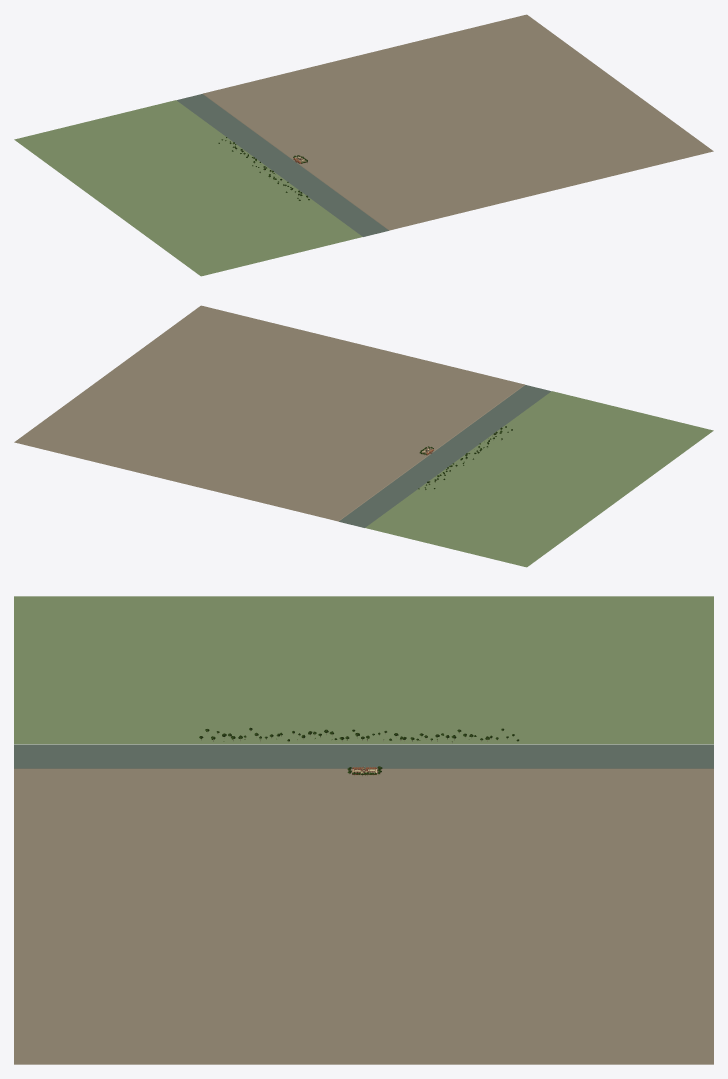
Rendered from dakshineswar.glb.
3 renders of one model, top to bottom at view 1: azimuth 30°, elevation 25°; view 2: azimuth 150°, elevation 25°; view 3: azimuth 270°, elevation 25°, orthographic. The views are drawn at different scales.
Visible parts, largest first — view 1: ground, far_bank, river; view 2: ground, far_bank, river; view 3: ground, far_bank, river.
Part boxes in pixels (<box>): ground: <box>203,14,713,230</box>; far_bank: <box>14,100,362,276</box>; river: <box>176,94,388,236</box>; ground: <box>14,305,524,521</box>; far_bank: <box>365,391,713,567</box>; river: <box>339,385,551,527</box>; ground: <box>14,769,713,1064</box>; far_bank: <box>14,596,713,744</box>; river: <box>14,744,713,768</box>.
Bounding box in the file's own units: 4750 × 37.85 × 3000.
Materials: 159 (143 with a texture image).
